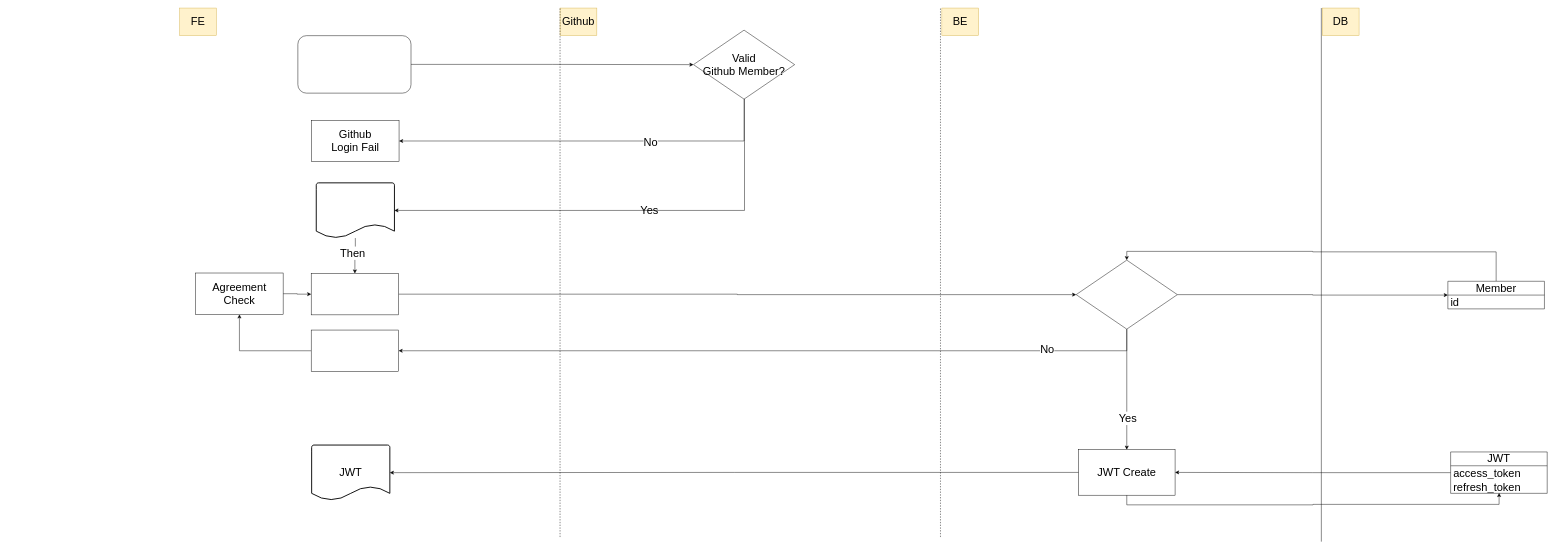
This 1555x550 diagram has some shape labels left out. Here are the shapes that lost their labels. From the top down, the centre of each, then its label:
(354,64): Github API Request
(355,210): Github Access Token
(355,294): Login Request
(1126,294): Already Exist?
(355,350): Singup Page
